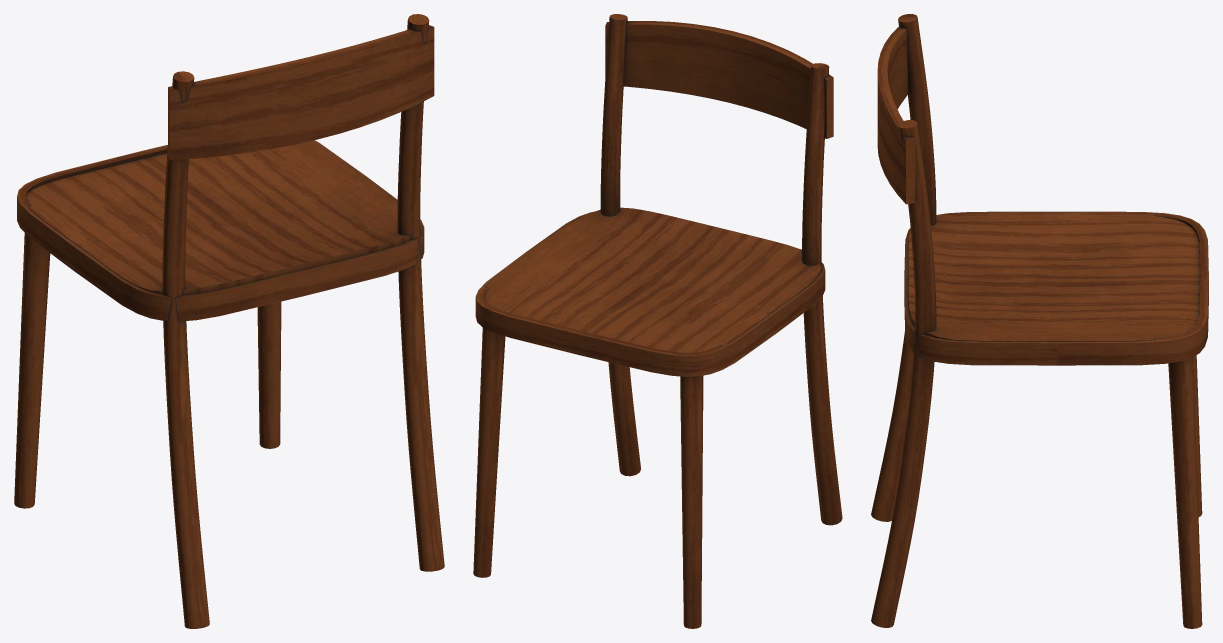
File: chair_vienna_web.glb
3 views of the same model, side by side, from view 1: azimuth 30°, elevation 25°; view 2: azimuth 150°, elevation 25°; view 3: azimuth 270°, elevation 25° (orthographic). The views are drawn at different scales.
Parts seen in each view (by area): view 1: ChairVienna_Mesh; view 2: ChairVienna_Mesh; view 3: ChairVienna_Mesh.
Part boxes in pixels (x1,y1,x2,y2): ChairVienna_Mesh: (14, 14, 444, 628); ChairVienna_Mesh: (473, 14, 842, 628); ChairVienna_Mesh: (871, 14, 1208, 628).
Bounding box in the file's own units: 0.442 × 0.7847 × 0.4792.
1 material, 1 textured.
